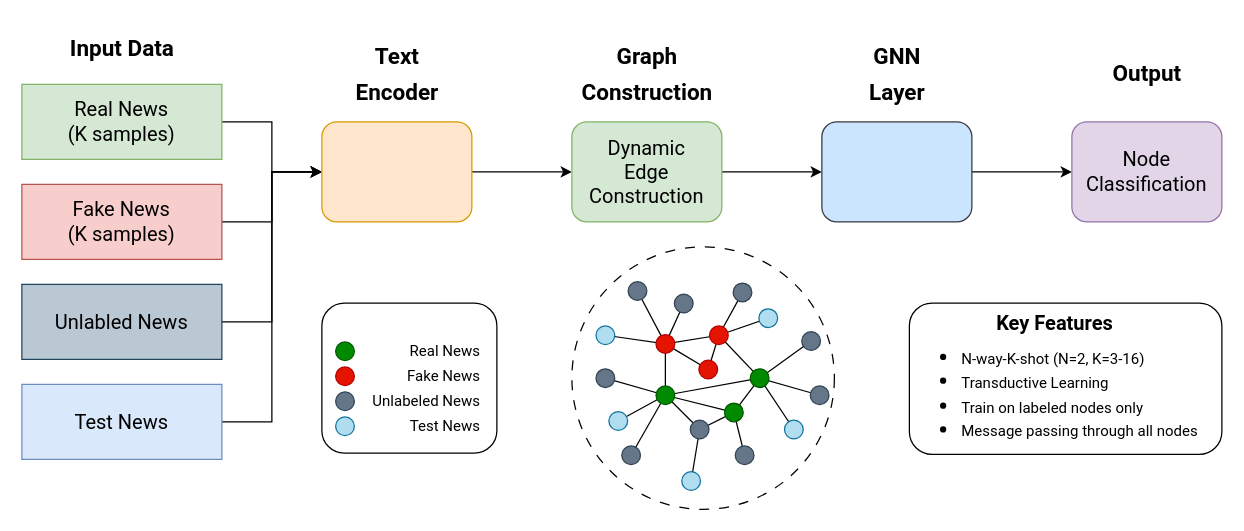
This 1244x531 diagram has some shape labels left out. Each missing label, with the box of its shape:
Embeddings: (321, 121, 472, 222)
Graph Attention Network: (821, 121, 972, 222)
Legend: (321, 302, 497, 453)
